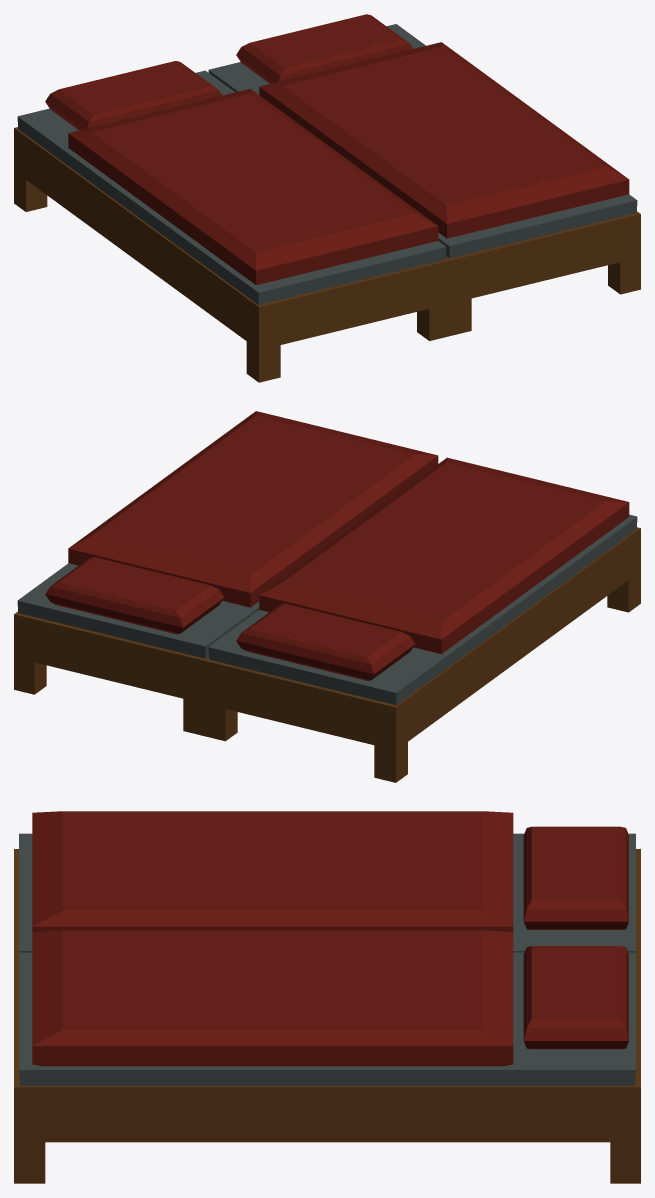
Rendered from bed-hackerthon.fbx.
3 renders of one model, top to bottom at view 1: azimuth 30°, elevation 25°; view 2: azimuth 150°, elevation 25°; view 3: azimuth 270°, elevation 25°, orthographic. The views are drawn at different scales.
Visible parts, largest first — view 1: Cube.001; view 2: Cube.001; view 3: Cube.001.
Boxes of the visible parts, left/top/right/bottom form: Cube.001: left=14, top=14, right=640, bottom=382; Cube.001: left=14, top=411, right=640, bottom=782; Cube.001: left=14, top=811, right=640, bottom=1183.
Bounding box in the file's own units: 180 × 50.69 × 200.
